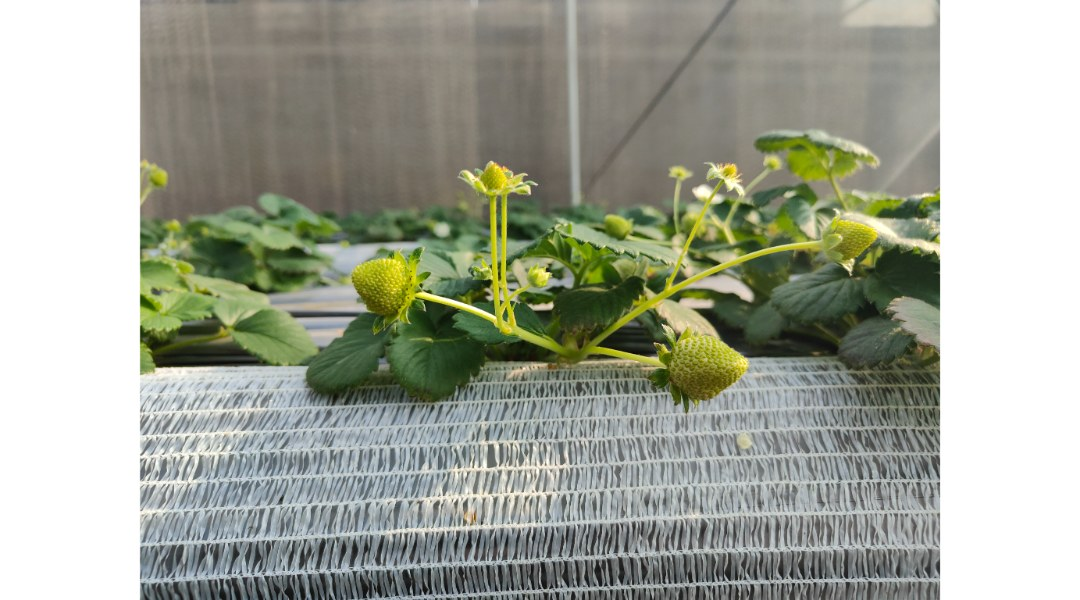berry: (655, 322, 764, 409), (348, 231, 435, 322), (809, 207, 897, 271), (455, 157, 539, 201), (598, 208, 639, 248), (520, 256, 558, 290), (659, 152, 694, 178), (467, 256, 492, 281)
flower: (704, 152, 748, 199)
strain: (596, 234, 821, 345), (687, 240, 822, 291), (666, 180, 722, 288), (411, 291, 491, 318), (604, 342, 662, 377), (486, 198, 501, 310), (500, 196, 514, 297), (516, 328, 565, 353)
